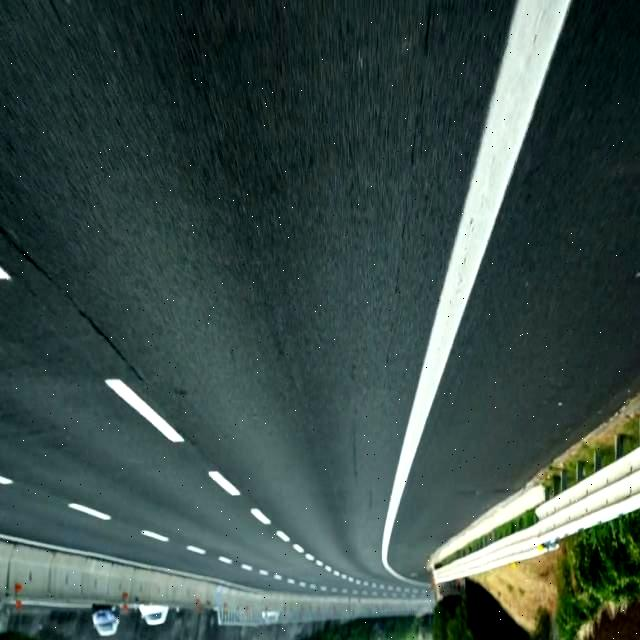lane: (382, 0, 571, 582), (105, 379, 184, 441), (209, 471, 241, 496), (69, 502, 111, 520), (250, 508, 271, 525), (141, 530, 169, 541)
road: (0, 1, 514, 592), (390, 1, 639, 579)
